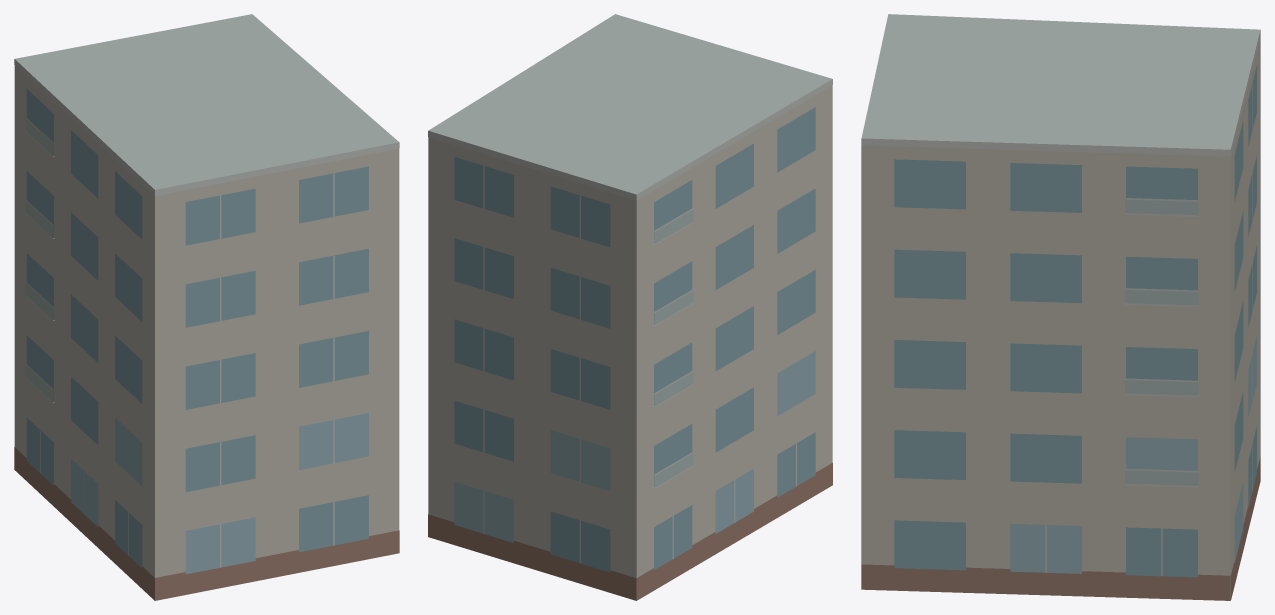
File: survey-upis-32671502.glb
The picture shows the model from 3 angles, left to right: view 1: azimuth 30°, elevation 25°; view 2: azimuth 150°, elevation 25°; view 3: azimuth 270°, elevation 25°; orthographic projection. The views are drawn at different scales.
Visible parts, largest first — view 1: survey-upis-32671502.tmp; view 2: survey-upis-32671502.tmp; view 3: survey-upis-32671502.tmp.
Part boxes in pixels (x1,y1,x2,y2): survey-upis-32671502.tmp: [14, 14, 399, 600]; survey-upis-32671502.tmp: [428, 14, 832, 600]; survey-upis-32671502.tmp: [861, 14, 1260, 600].
Size of the model in its own units: 10.39 by 16.1 by 12.92.
